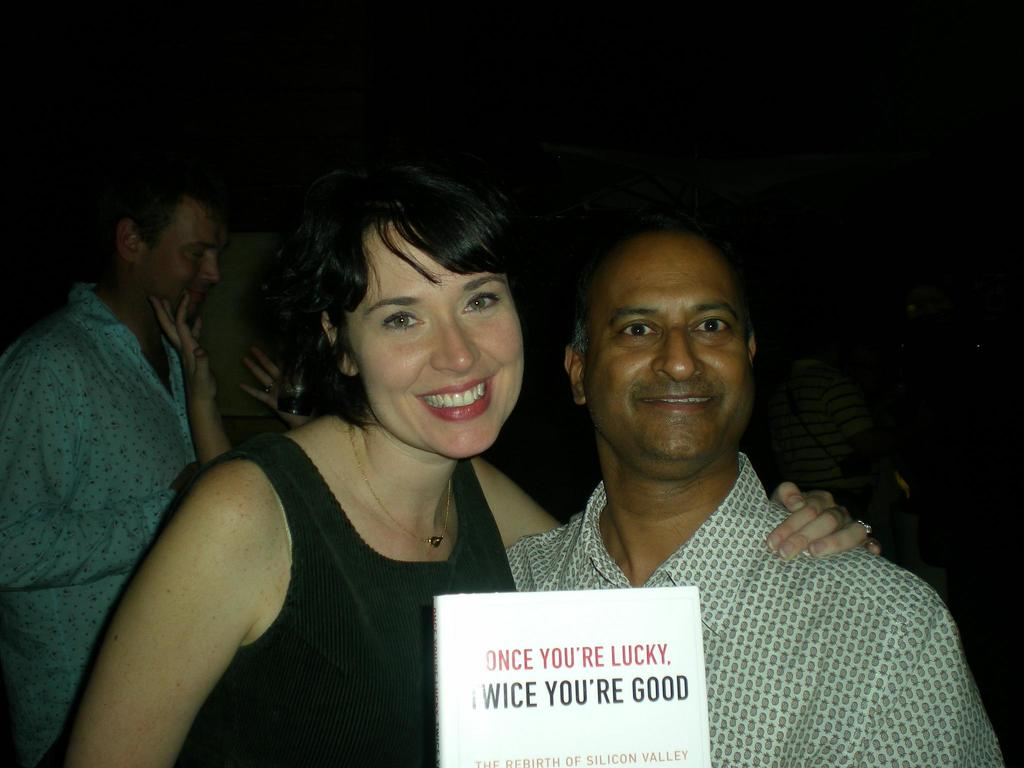Human_hand: (780, 483, 870, 580), (148, 291, 220, 401), (235, 342, 319, 430)
